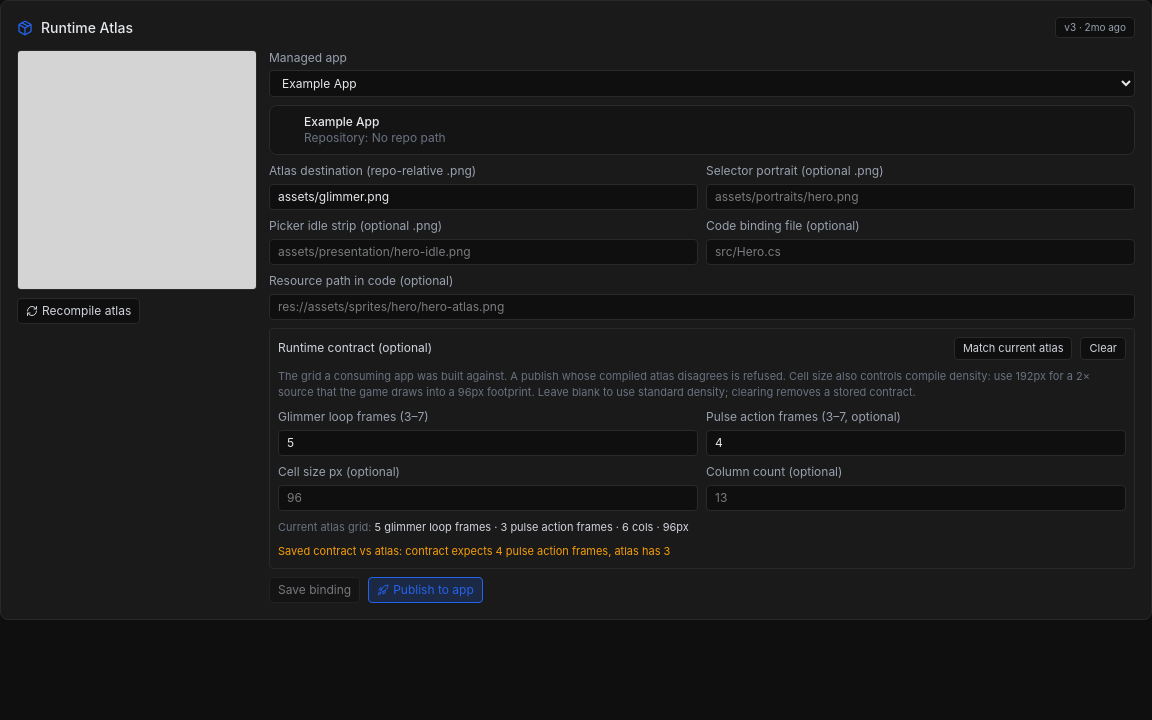
Scenario: PublishWorkflow runtime contract › derives the required primary-track gate and mismatch summary from definitions
Expected: the text "contract expects 4 pulse action frames, atlas has 3" is shown, [405,544,670,558]
Clear the number field labelled "Glimmer loop frames (3–7)" at [488, 442], box [278,430,698,456]
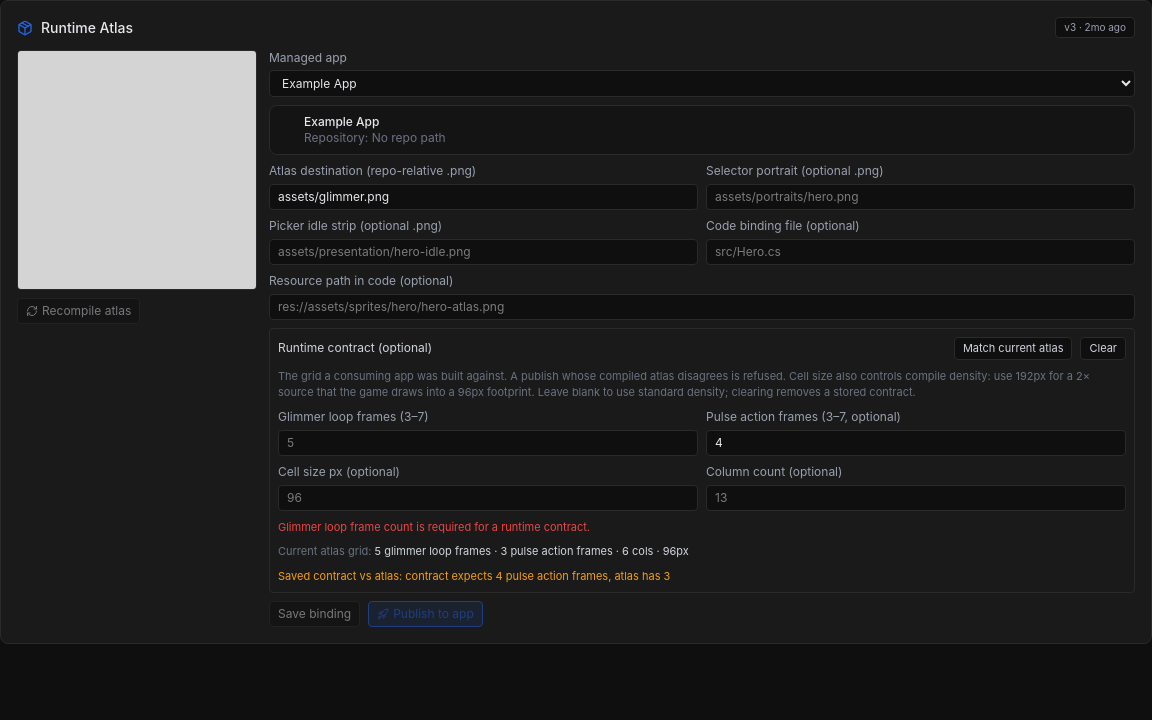
Now the text "Glimmer loop frame count is required for a runtime contract." is shown, box [278,520,590,534]
